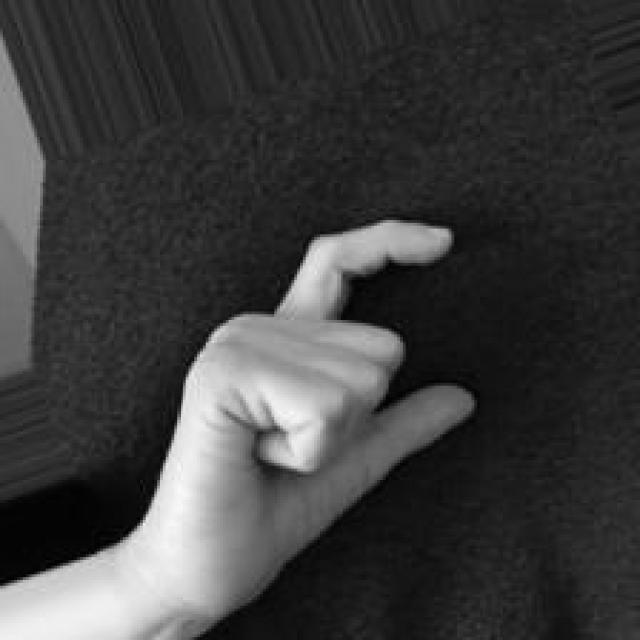C: (126, 214, 477, 640)
